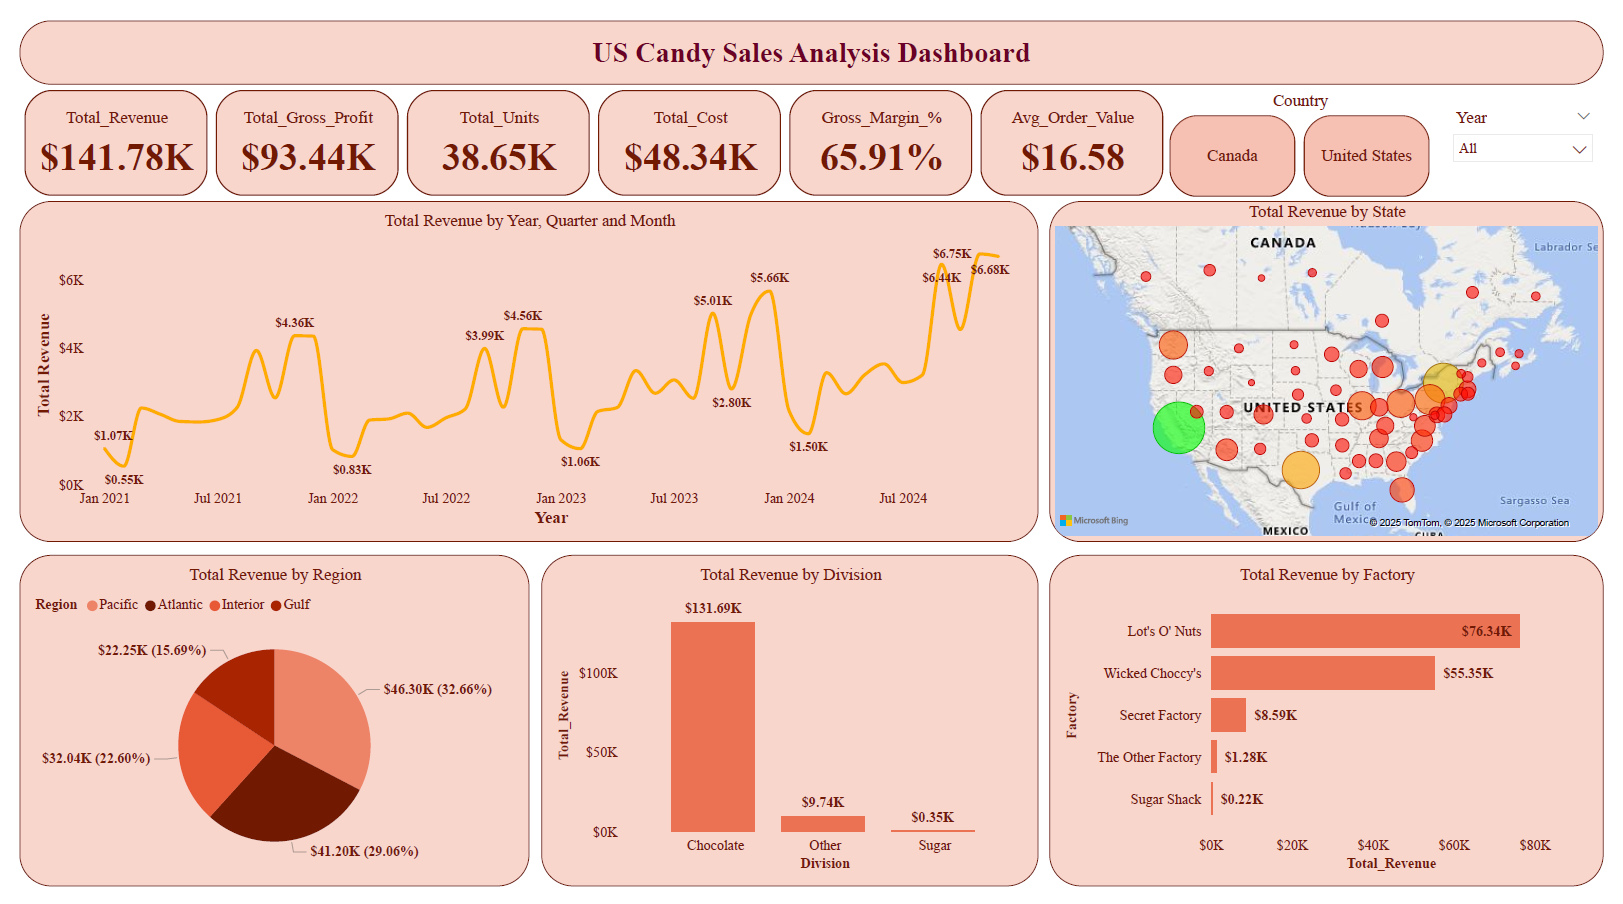

This screenshot's page, from the dashboard's own definition file:
{"tool":"powerbi","page":{"name":"Sales_Dashboard","canvas":[1500,820],"ordinal":0},"visuals":[{"type":"textbox","box":[0,0,1499.9,61.3],"z":0},{"type":"cardVisual","fields":{"Data":["Measure.Total_Revenue","Measure.Total_Gross_Profit","Measure.Total_Units","Measure.Total_Cost","Measure.Gross_Margin_%","Measure.Avg_Order_Value"]},"box":[0,61.1,1089.7,110.1],"z":1000},{"type":"lineChart","title":"Total Revenue by Year, Quarter and Month","fields":{"Category":["Candy_Sales.Order Date.Variation.Date Hierarchy.Year","Candy_Sales.Order Date.Variation.Date Hierarchy.Quarter","Candy_Sales.Order Date.Variation.Date Hierarchy.Month","Candy_Sales.Order Date.Variation.Date Hierarchy.Day"],"Y":["Measure.Total_Revenue"]},"box":[0,171.3,965.1,323.1],"z":2000},{"type":"map","title":"Total Revenue by State","fields":{"Size":["Measure.Total_Revenue"],"Category":["Candy_Sales.State"]},"box":[974.9,171.3,525,323.1],"z":3000},{"type":"pieChart","title":"Total Revenue by Region","fields":{"Category":["Candy_Sales.Region"],"Y":["Measure.Total_Revenue"]},"box":[0,505.5,483.3,314.7],"z":4000},{"type":"columnChart","title":"Total Revenue by Division","fields":{"Category":["Candy_Products.Division"],"Y":["Measure.Total_Revenue"]},"box":[494.4,505.5,470.7,314.7],"z":5000},{"type":"barChart","title":"Total Revenue by Factory","fields":{"Category":["Candy_Factories.Factory"],"Y":["Measure.Total_Revenue"]},"box":[974.9,505.5,525,314.7],"z":6000},{"type":"advancedSlicerVisual","fields":{"Values":["Candy_Sales.Country"]},"box":[1089.1,66.8,247.9,100.3],"z":7000},{"type":"slicer","fields":{"Values":["Candy_Sales.Order Date.Variation.Date Hierarchy.Year"]},"box":[1346.7,78,153.2,76.6],"z":8000}]}

Visuals, with their boxes in screenshot pixels (x1, y1, x2, y2), scaled from the page's 1500x820 canvas onto the 1623x904 screenshot:
textbox: bbox=[0, 0, 1622, 68]
cardVisual - Measure.Total_Revenue x Measure.Total_Gross_Profit: bbox=[0, 67, 1179, 189]
"Total Revenue by Year, Quarter and Month" lineChart: bbox=[0, 189, 1044, 545]
"Total Revenue by State" map: bbox=[1055, 189, 1622, 545]
"Total Revenue by Region" pieChart: bbox=[0, 557, 523, 903]
"Total Revenue by Division" columnChart: bbox=[535, 557, 1044, 903]
"Total Revenue by Factory" barChart: bbox=[1055, 557, 1622, 903]
advancedSlicerVisual - Candy_Sales.Country: bbox=[1178, 74, 1447, 184]
slicer - Candy_Sales.Order Date.Variation.Date Hierarchy.Year: bbox=[1457, 86, 1622, 170]
